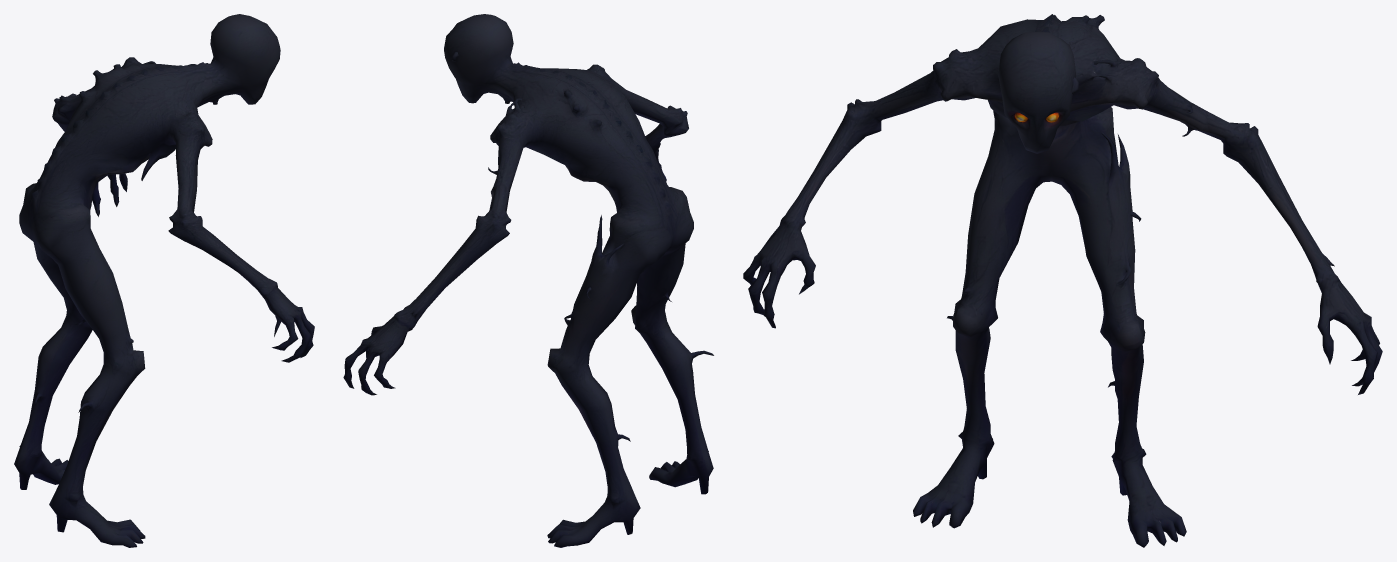
Rendered from monster.glb.
3 views of the same model, side by side, from view 1: azimuth 30°, elevation 25°; view 2: azimuth 150°, elevation 25°; view 3: azimuth 270°, elevation 25° (orthographic). The views are drawn at different scales.
Visible parts, largest first — view 1: node_99f1b900-8216-4322-b8df-c93fc687cd9a; view 2: node_99f1b900-8216-4322-b8df-c93fc687cd9a; view 3: node_99f1b900-8216-4322-b8df-c93fc687cd9a.
Boxes of the visible parts, x1,y1,x2,y2 form: node_99f1b900-8216-4322-b8df-c93fc687cd9a: (14,14,314,547); node_99f1b900-8216-4322-b8df-c93fc687cd9a: (343,14,713,547); node_99f1b900-8216-4322-b8df-c93fc687cd9a: (743,14,1382,547).
Bounding box in the file's own units: 0.5566 × 0.998 × 0.9941.
Materials: 1 (1 with a texture image).
